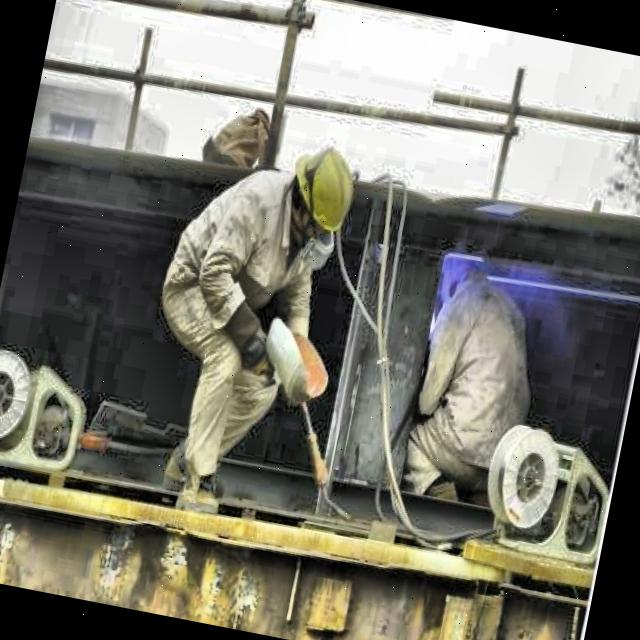helmet: (278, 130, 369, 258)
